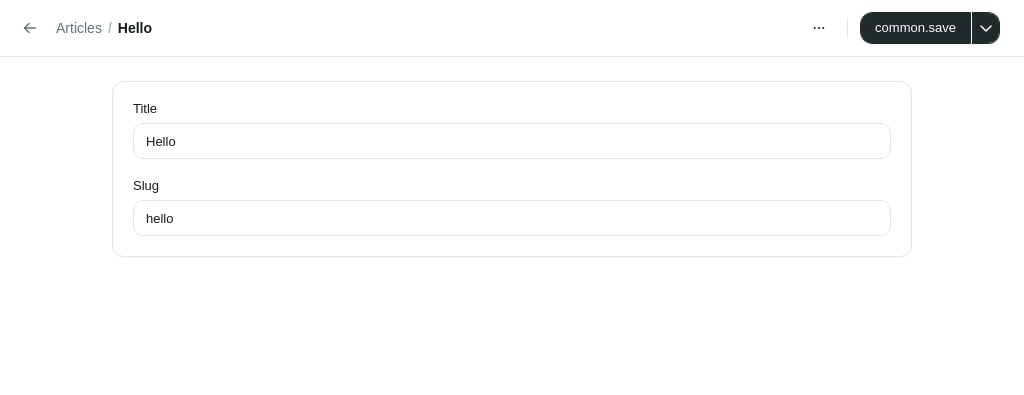
Scenario: Model validation errors › shows non-field errors above the form
Expected: the field showing "hello" below "Slug" is shown, [133, 200, 891, 236]
Click the button "common.save" at (916, 28), box [860, 12, 971, 44]
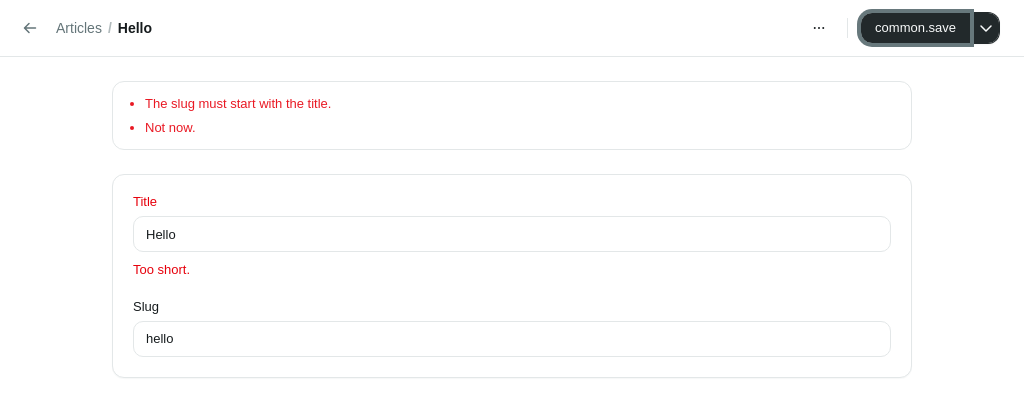
Now the list item "The slug must start with the title." is shown, box [145, 94, 331, 114]
Now the list item "Not now." is shown, box [145, 120, 196, 134]
Now the text "Too short." is shown, box [133, 262, 190, 277]
